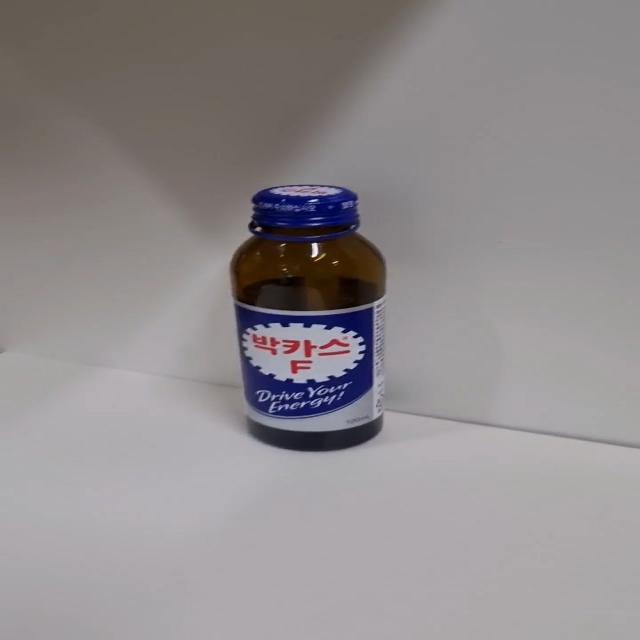Glass: (228, 184, 388, 454)
